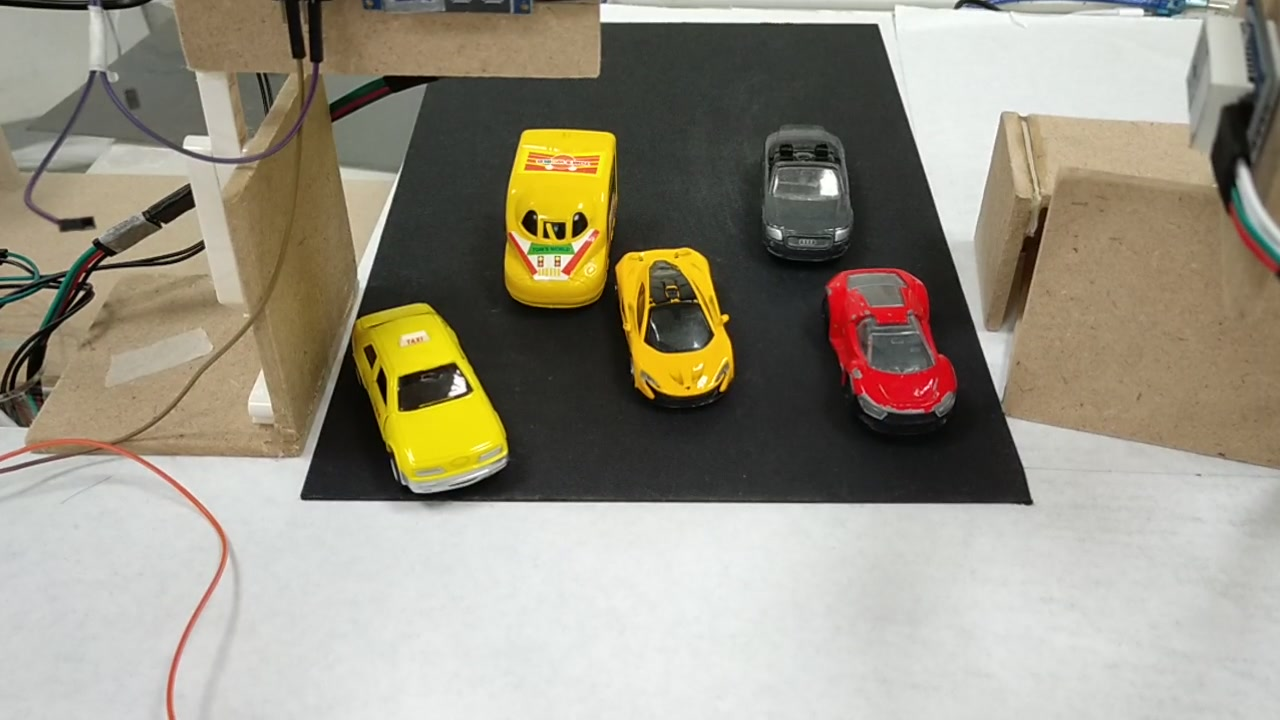car: (350, 315, 510, 495), (821, 265, 955, 429), (613, 251, 734, 405), (761, 128, 851, 259)
